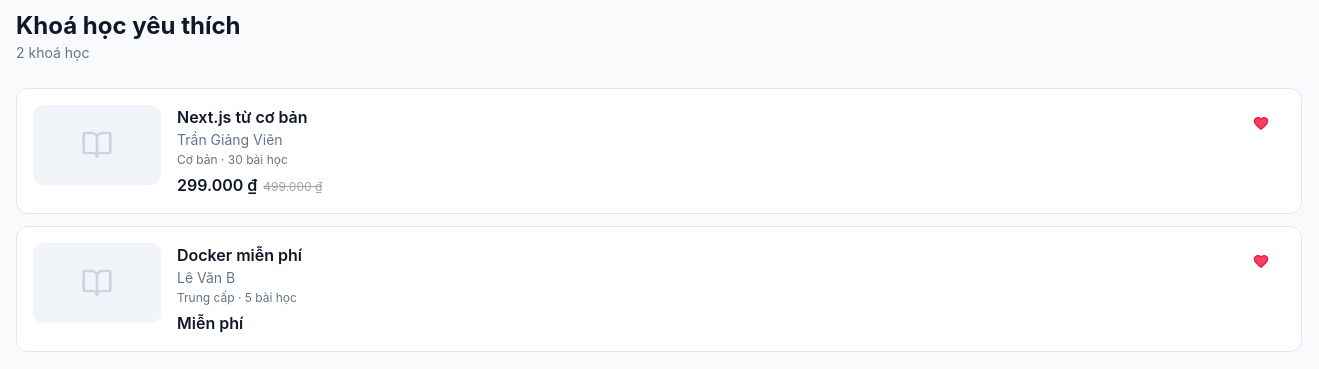
Test: /wishlist — danh sách yêu thích (F-10) › bỏ lưu: DELETE /wishlist/:courseId rồi làm mới danh sách
Click the button named "Bỏ khỏi danh sách yêu thích": (1261, 123) [1237,105,1285,141]
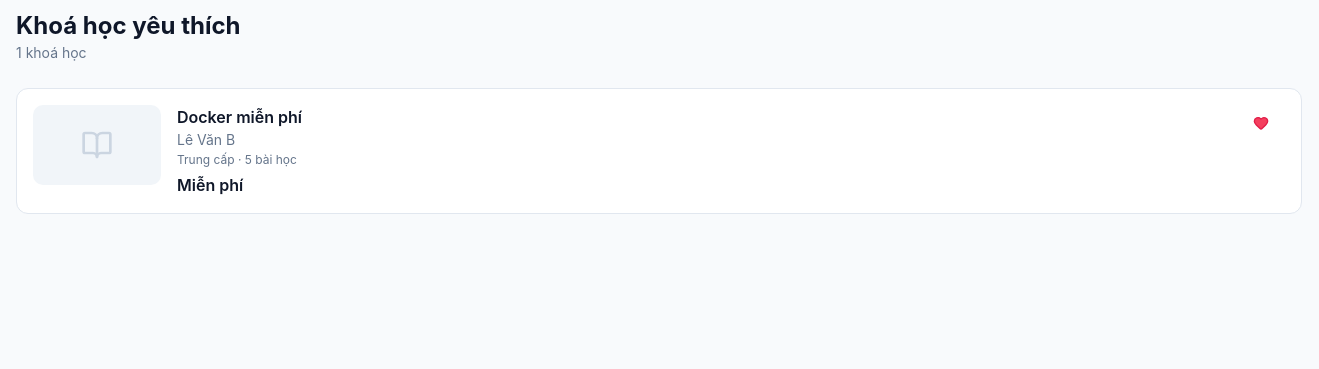
Check: the link "Docker miễn phí" is shown, box [177,107,302,127]
Check: the link "Next.js từ cơ bản" is gone
